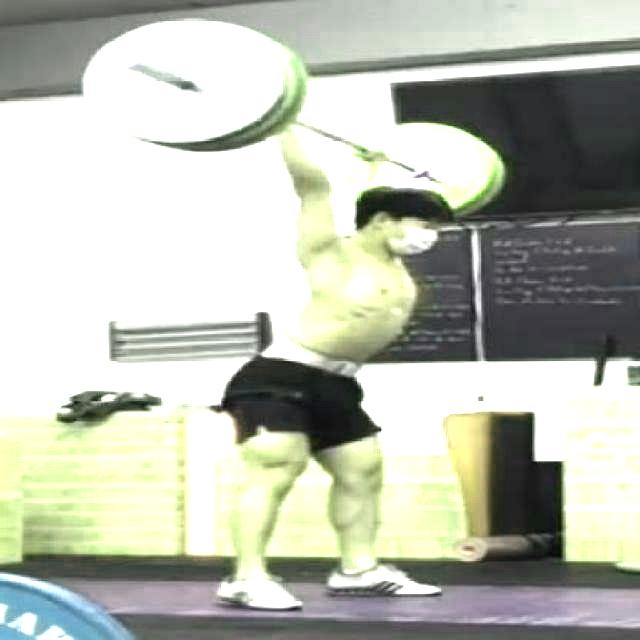barbell: (75, 12, 311, 161)
